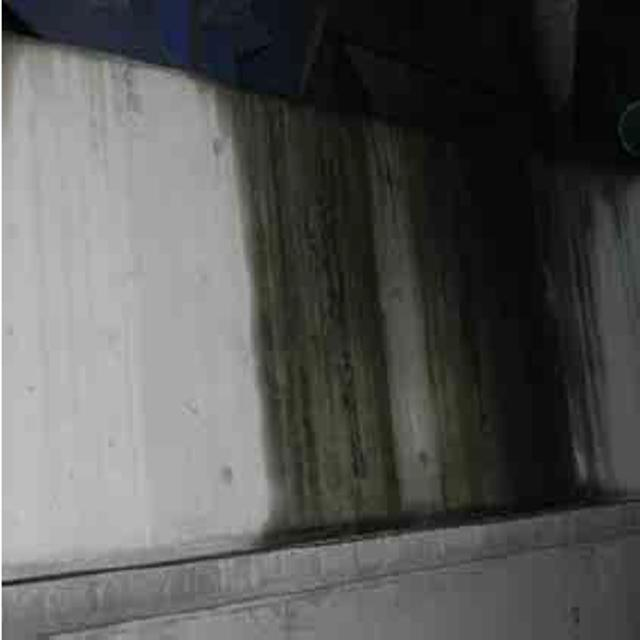leakage: (204, 87, 619, 540)
